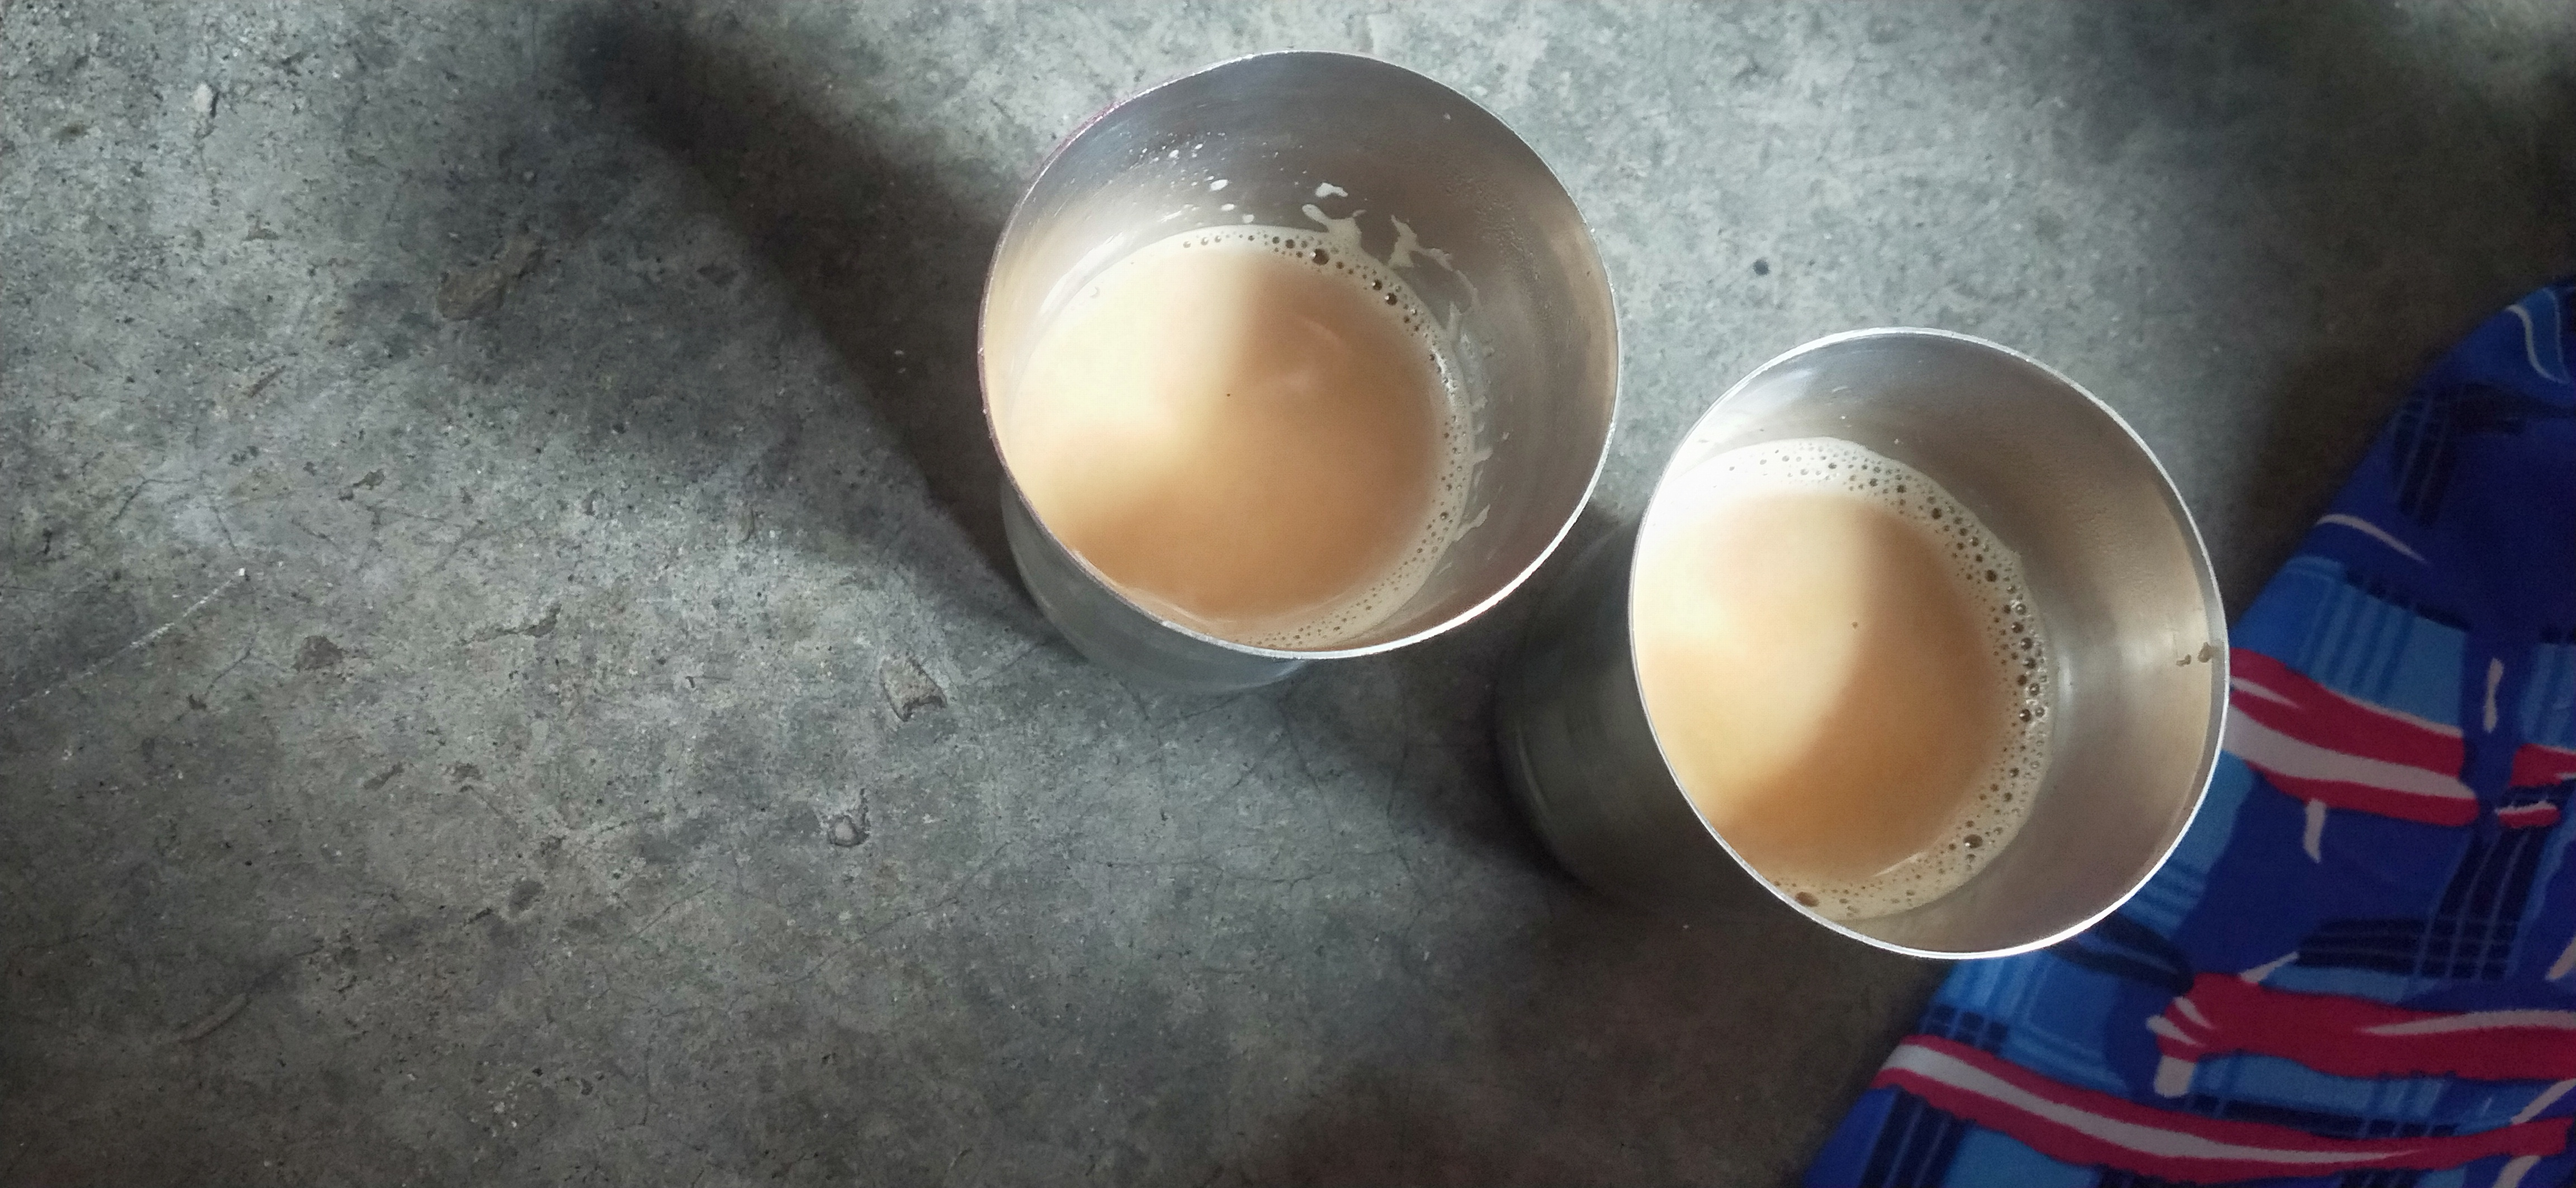food: (1623, 426, 2067, 932), (1001, 215, 1485, 656)
